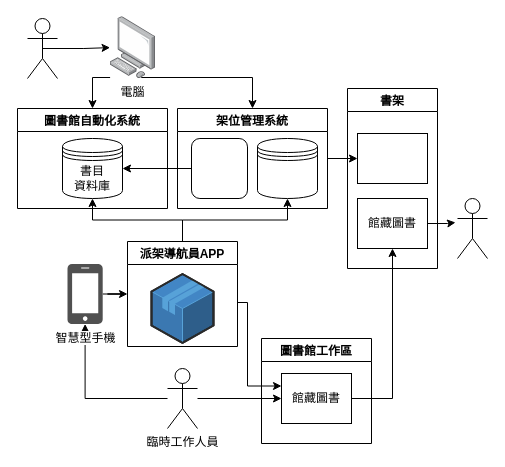
The diagram is 505 pixels wide and 467 high, and some of its shapes have lost their labels. Each missing label, with the centre of its shape:
"架位空間 評估套件" belongs at point 219,168.
"架位配置資料庫" belongs at point 287,168.
"讀者" belongs at point 472,228.
"電子紙 貨架標籤" belongs at point 392,158.
"館員" belongs at point 42,48.
